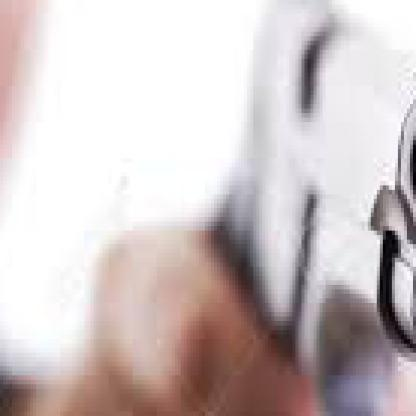gun: (172, 0, 414, 412)
